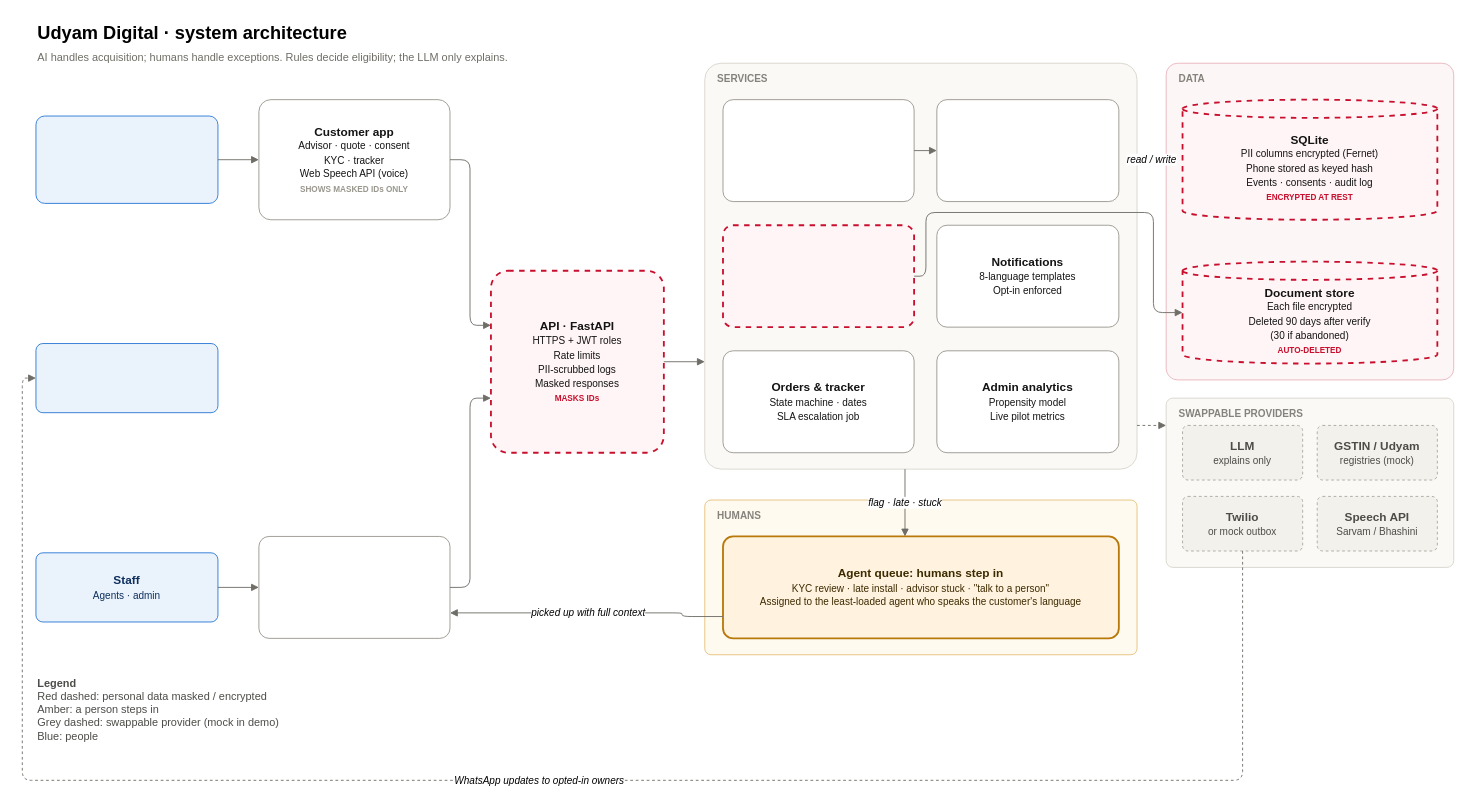
Some shapes in this 1470 by 804 pixel diagram are drawn without their labels. The centre of each missing label's shape, as x and y in pixels:
"Admin console Leads · escalations Outbox · simulator AUDIT-LOGGED VIEWS" belongs at point 354,587.
"Advisor LLM explains Rules engine decides" belongs at point 818,150.
"Business owner Mobile web · text + voice 8 languages" belongs at point 126,159.
"Pricing One monthly price Dependency locks" belongs at point 1027,150.
"Smart KYC Consent first GSTIN / Udyam lookup OCR → 13 checks ENCRYPTS DOCS + IDs" belongs at point 818,276.
"WhatsApp Opt-in status updates" belongs at point 126,378.
